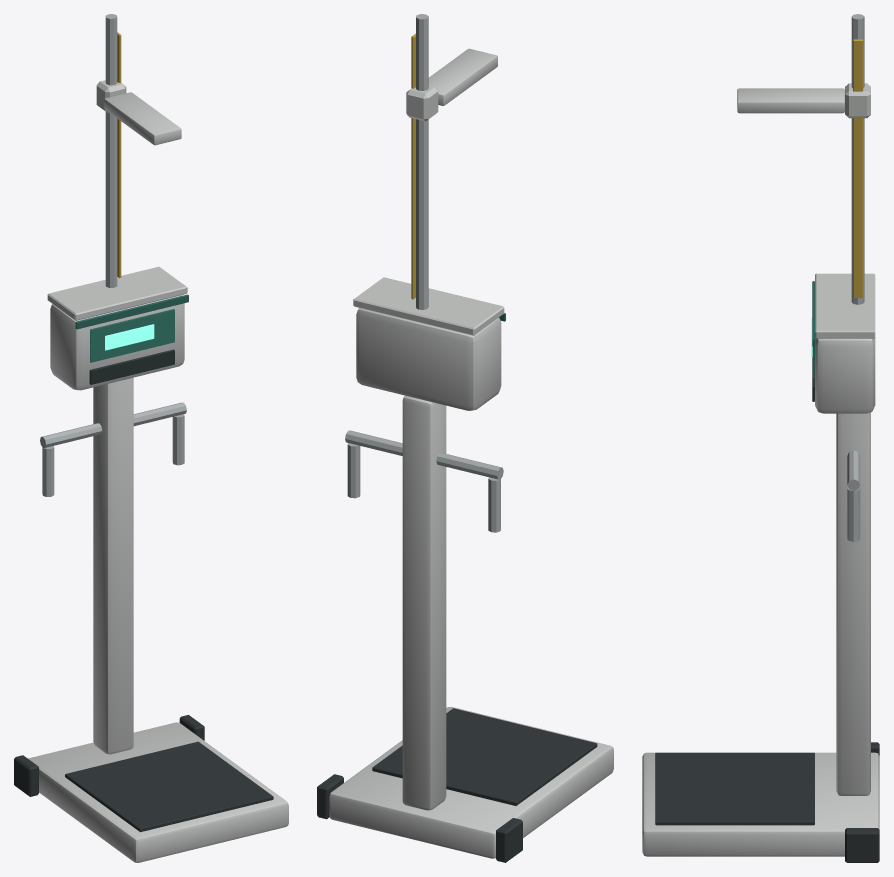
The model's file is weighing-scale.glb.
3 views of the same model, side by side, from view 1: azimuth 30°, elevation 25°; view 2: azimuth 150°, elevation 25°; view 3: azimuth 270°, elevation 25° (orthographic). The views are drawn at different scales.
Parts seen in each view (by area): view 1: weighing-scale; view 2: weighing-scale; view 3: weighing-scale.
Part boxes in pixels (x1,y1,x2,y2): weighing-scale: (14,14,288,862); weighing-scale: (317,14,613,862); weighing-scale: (642,14,879,862).
Bounding box in the file's own units: 0.5 × 2.05 × 0.55.
